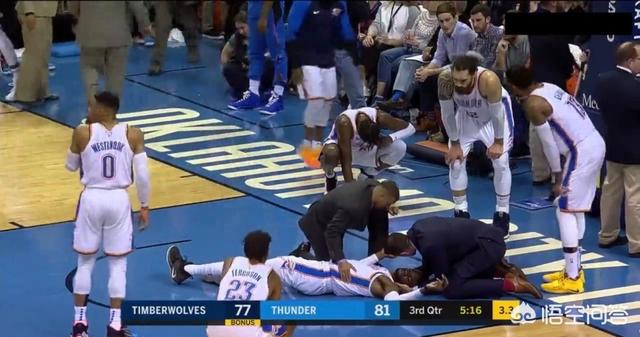10+: (4, 1, 640, 307)
down: (158, 239, 454, 306)
